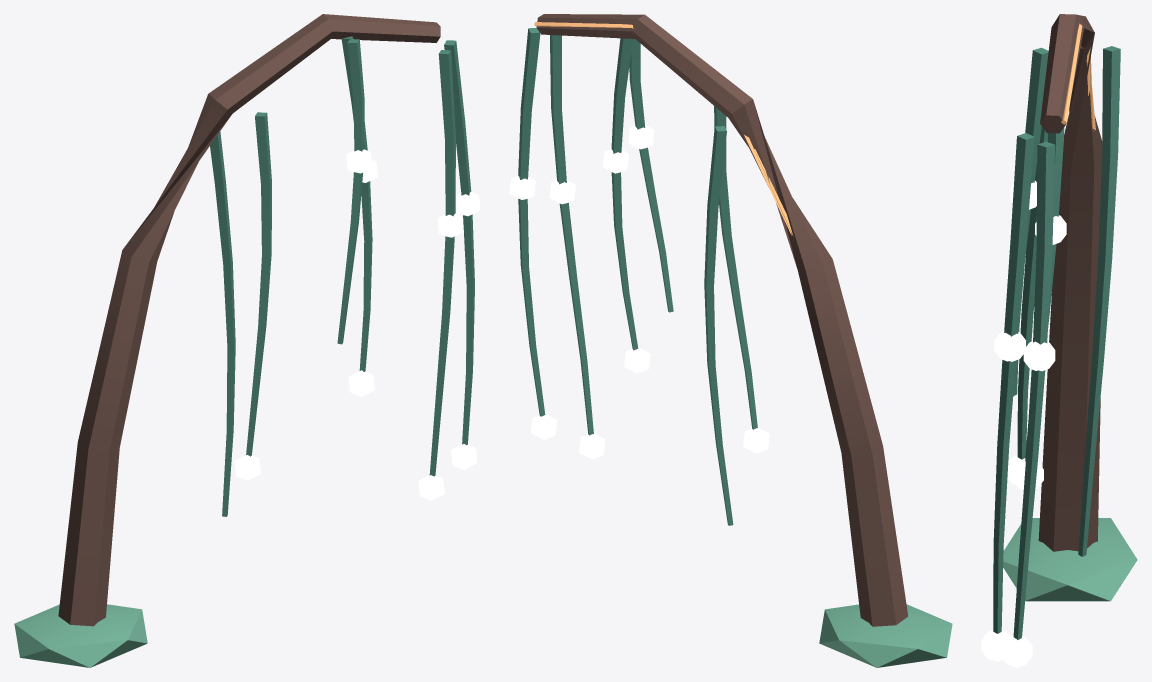
Rendered from glimmerwood_glow_vines.glb.
3 views of the same model, side by side, from view 1: azimuth 30°, elevation 25°; view 2: azimuth 150°, elevation 25°; view 3: azimuth 270°, elevation 25° (orthographic). The views are drawn at different scales.
Visible parts, largest first — view 1: glimmerwood_glow_vines; view 2: glimmerwood_glow_vines; view 3: glimmerwood_glow_vines.
Part boxes in pixels (left/top/right/bottom): glimmerwood_glow_vines: left=14, top=14, right=480, bottom=667; glimmerwood_glow_vines: left=509, top=14, right=952, bottom=667; glimmerwood_glow_vines: left=981, top=14, right=1137, bottom=667.
Size of the model in its own units: 1.73 by 2.13 by 0.4192.
